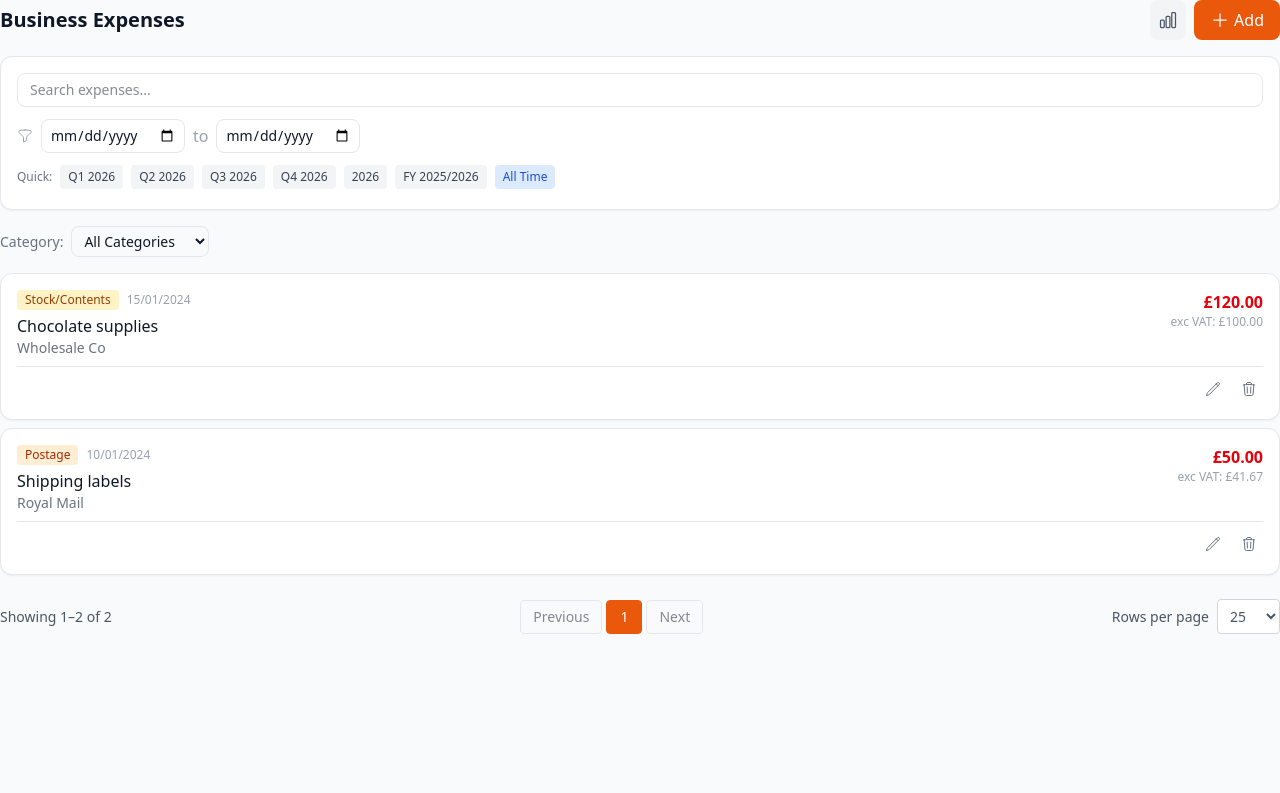
Expenses › add expense › shows form when Add clicked
Click the button "Add": (1237,20) top-left (1194, 0), bottom-right (1279, 40)
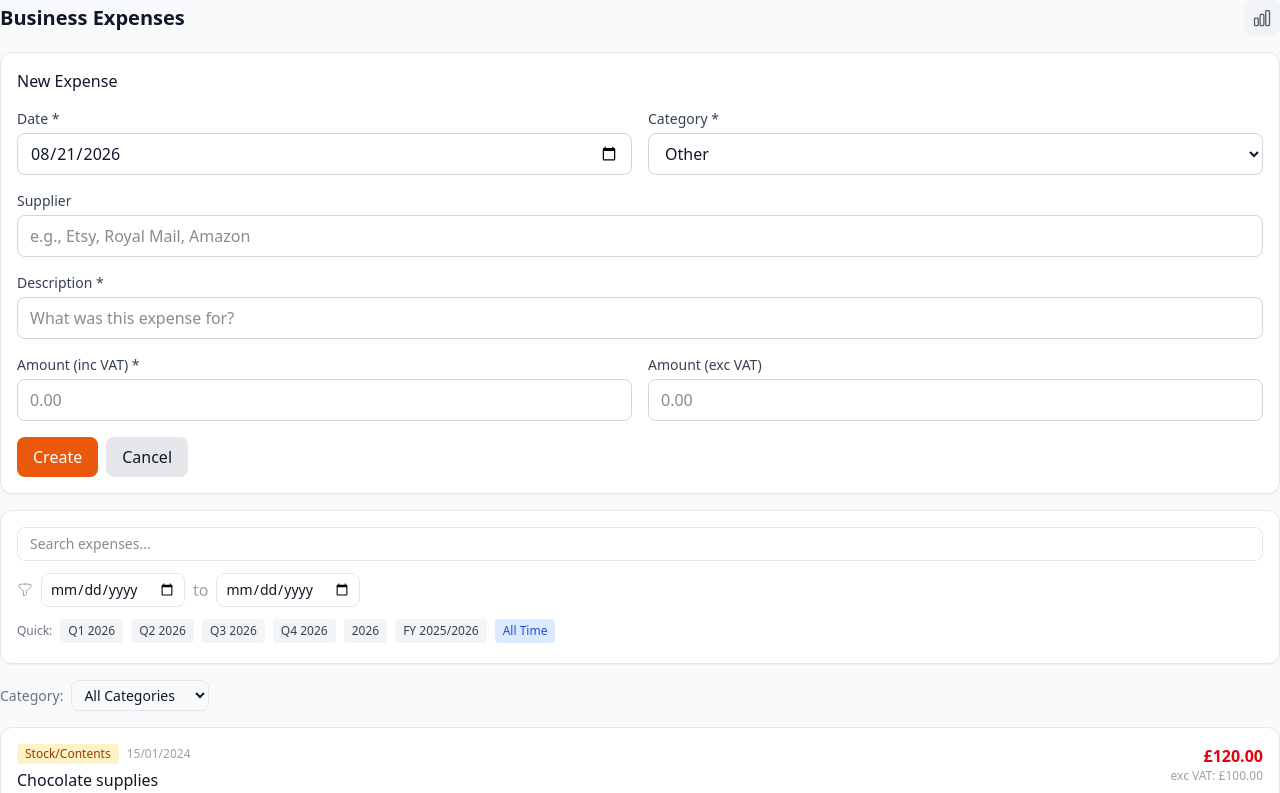
Now the heading "New Expense" is shown, box top-left (17, 70), bottom-right (117, 92)
